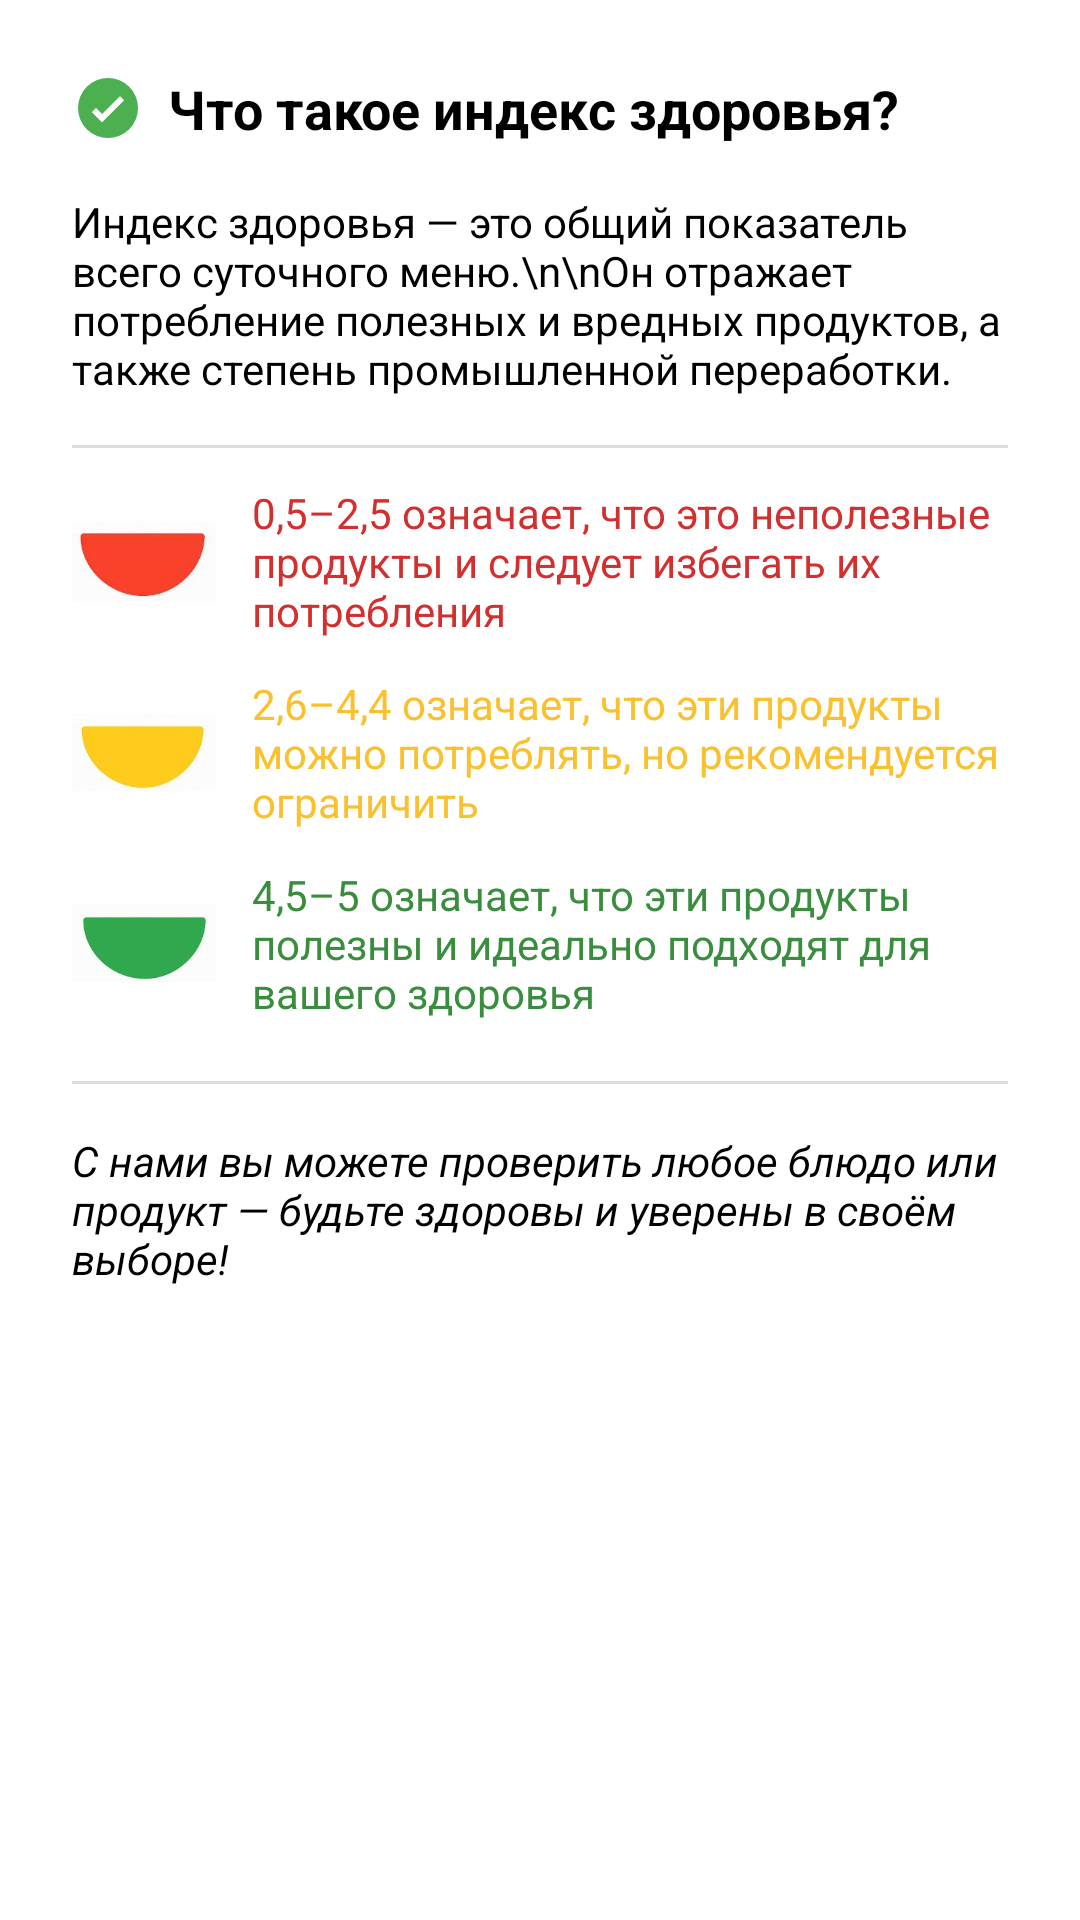

Point at icon controls on the screen. Image size 1080px×1920px, points as (x=x, y=y).
Жёлтая миска: (x=143, y=757)
Зелёная миска: (x=144, y=948)
Красная миска: (x=143, y=565)
